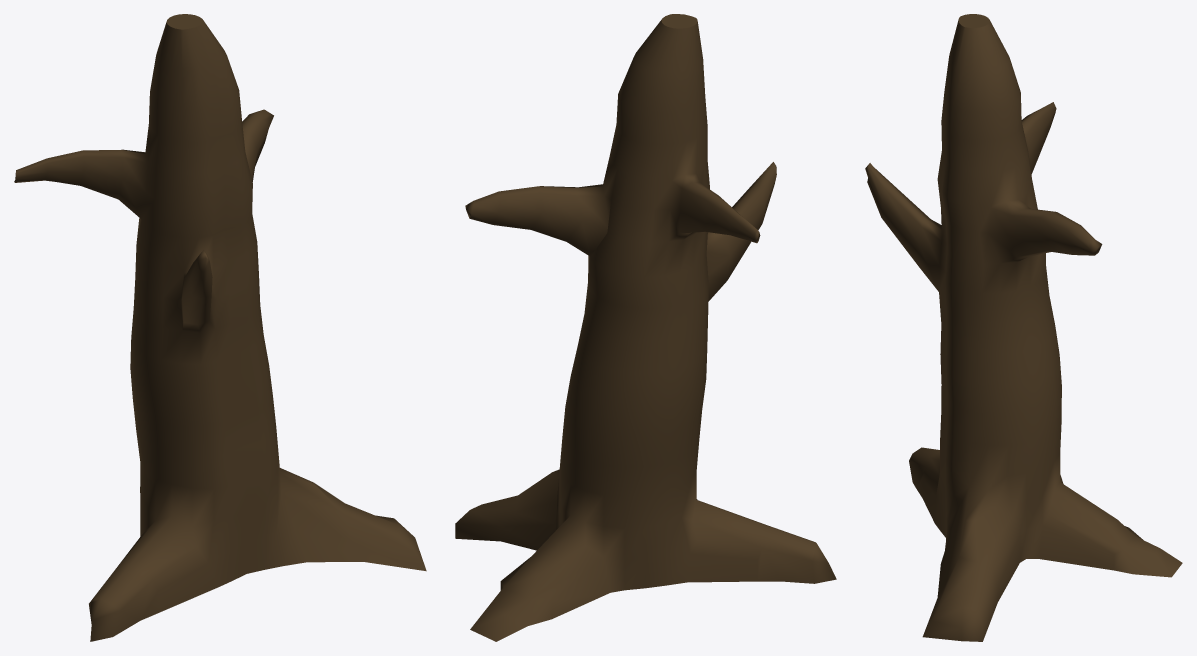
The model's file is OddTree.fbx.
The picture shows the model from 3 angles, left to right: view 1: azimuth 30°, elevation 25°; view 2: azimuth 150°, elevation 25°; view 3: azimuth 270°, elevation 25°; orthographic projection. The views are drawn at different scales.
Visible parts, largest first — view 1: OddTree; view 2: OddTree; view 3: OddTree.
Boxes of the visible parts, x1,y1,x2,y2 form: OddTree: [14, 14, 426, 641]; OddTree: [455, 14, 836, 641]; OddTree: [865, 14, 1182, 641].
Size of the model in its own units: 23.19 by 36.54 by 20.13.
